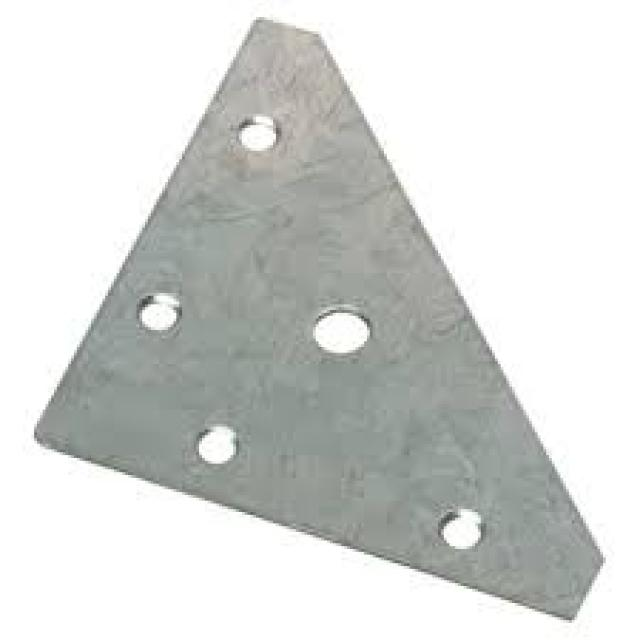holes: (310, 307, 370, 353), (435, 506, 481, 549), (134, 290, 179, 333), (193, 424, 236, 464), (236, 114, 276, 151)
